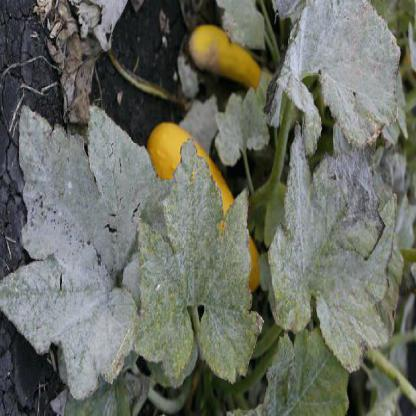Squash Powdery mildew leaf: (1, 91, 162, 383), (262, 118, 401, 370), (136, 132, 260, 384), (274, 1, 407, 134)
